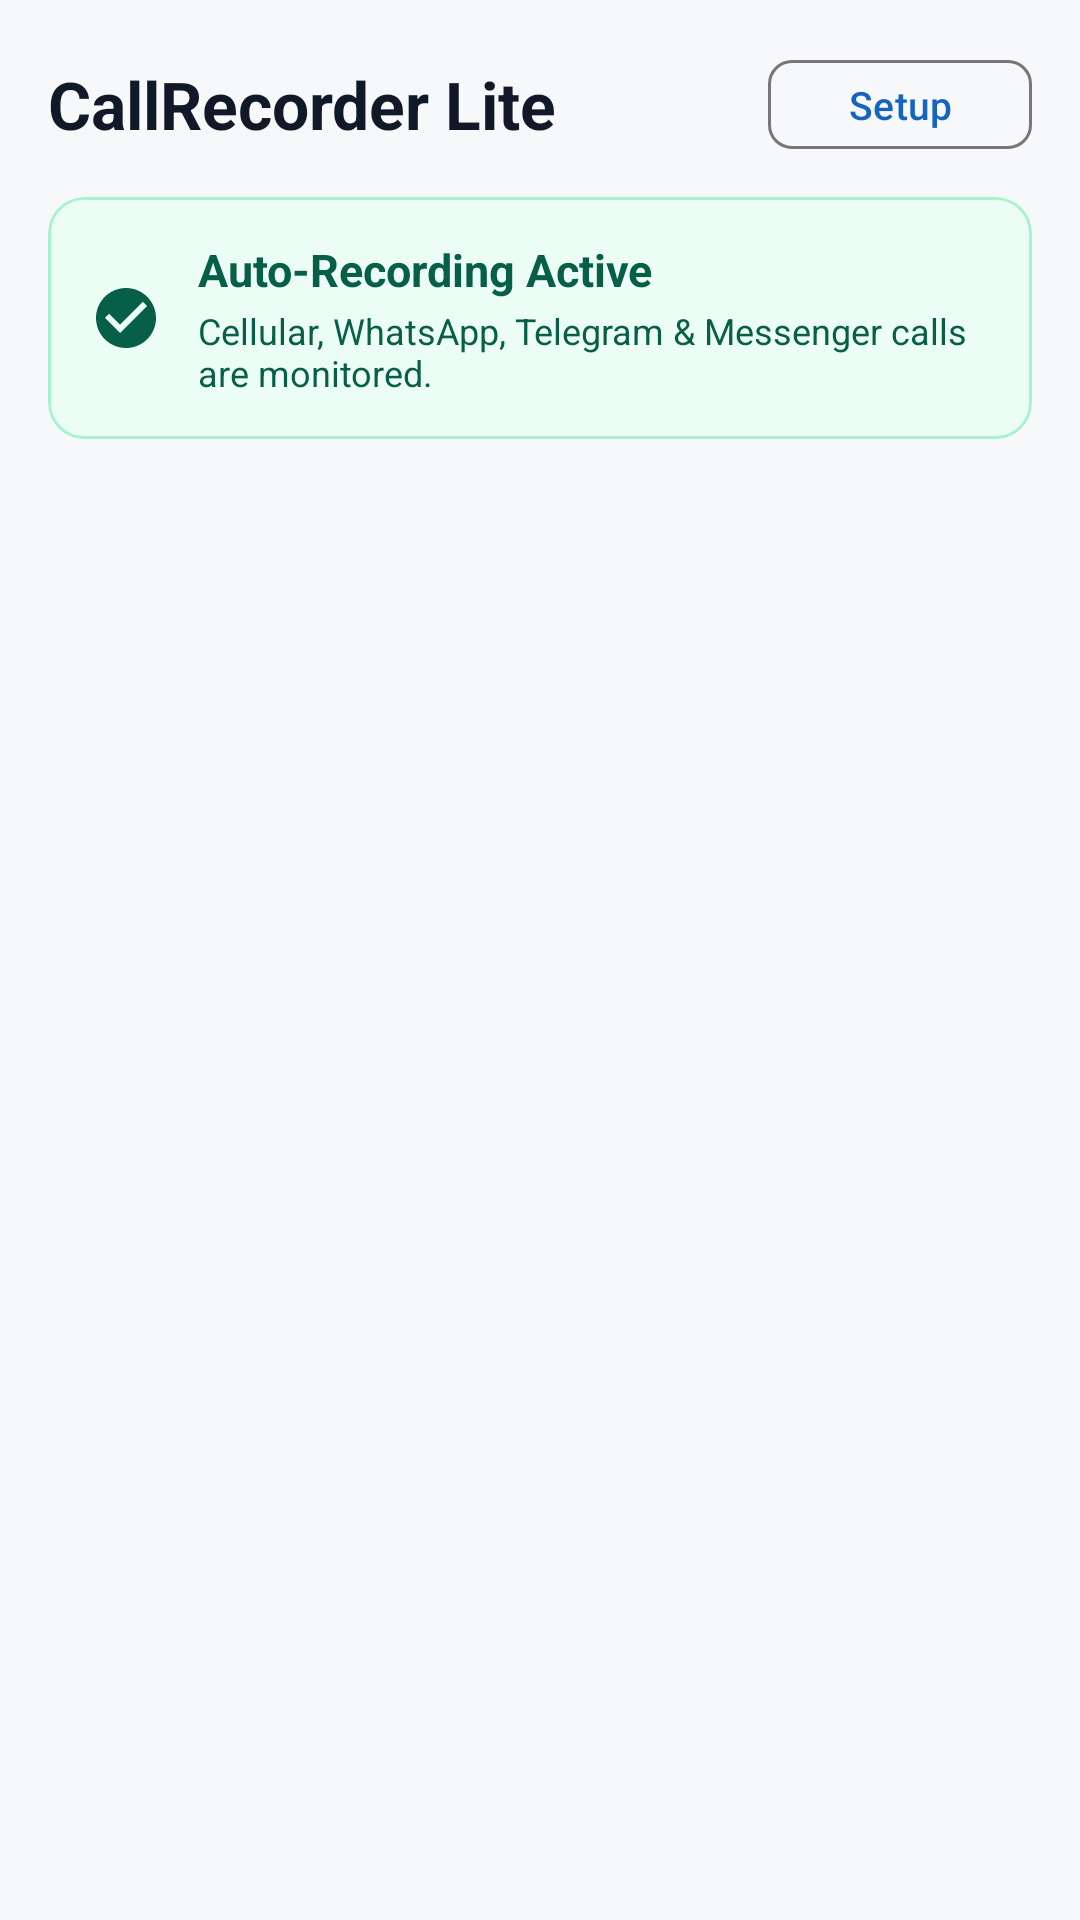

Icons on this 1080x1920 Android screen, each with its box as {"x1": x1, "y1": y1, "x2": x2, "y2": y2}:
check circle: {"x1": 96, "y1": 288, "x2": 156, "y2": 348}
